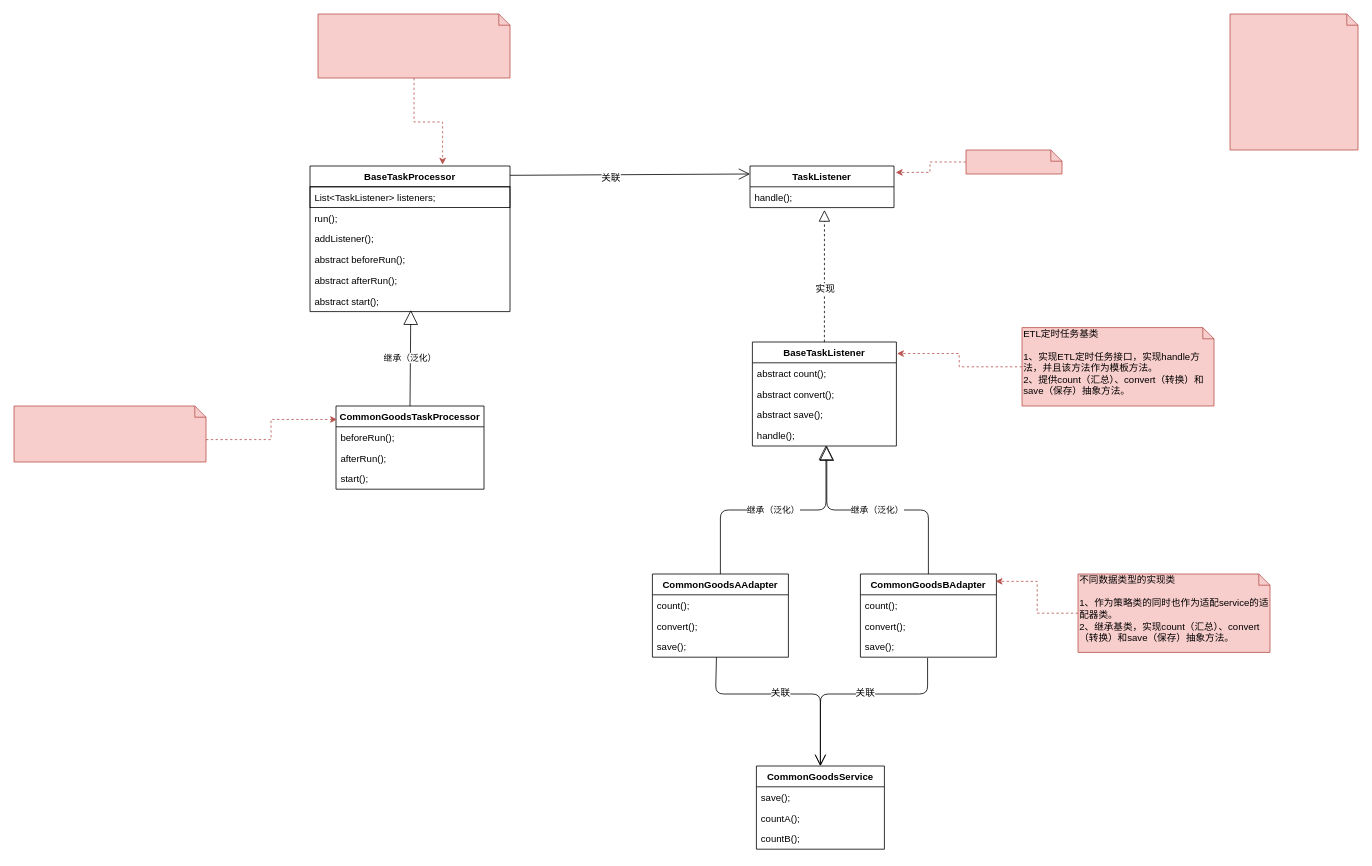
Some shapes in this 1372 by 866 pixel diagram are drawn without their labels. Here are the shapes that lost their labels. From the top down, the centre of each, then its label:
At (x=413, y=45): "ETL定时任务Processor基类 1、作为被观察者。 2、提供beforeRun、afterRun和start抽象方法。".
At (x=1293, y=81): "设计原则 1、开闭原则 2、依赖倒置原则 设计模式 1、模板方法模式 2、策略模式 3、适配器模式 4、观察者模式".
At (x=1013, y=161): "ETL定时任务接口".
At (x=109, y=433): "具体的ETL定时任务Processor 1、继承基类，实现beforeRun、afterRun和start抽象方法。".
